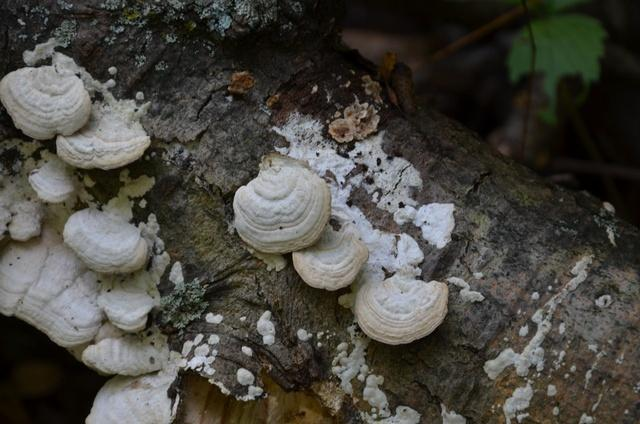poisonous_mushroom: (0, 63, 182, 424), (231, 151, 332, 271), (352, 269, 449, 345), (291, 216, 369, 291)
